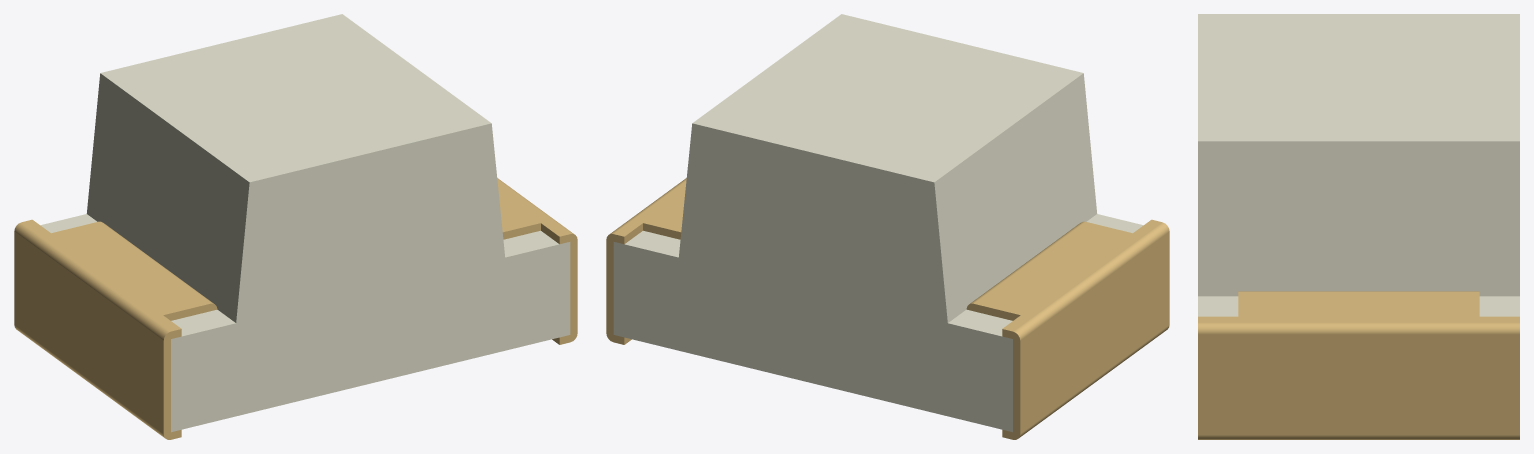
File: LED_0805_2012Metric.glb
3 views of the same model, side by side, from view 1: azimuth 30°, elevation 25°; view 2: azimuth 150°, elevation 25°; view 3: azimuth 270°, elevation 25° (orthographic). The views are drawn at different scales.
Visible parts, largest first — view 1: =>[0:1:1:3]; view 2: =>[0:1:1:3]; view 3: =>[0:1:1:3].
Part boxes in pixels (box(x1,y1,x2,y2)): =>[0:1:1:3]: box(14, 14, 577, 439); =>[0:1:1:3]: box(606, 14, 1169, 439); =>[0:1:1:3]: box(1198, 14, 1519, 439).
Size of the model in its own units: 0.002 by 0.0011 by 0.00125.
